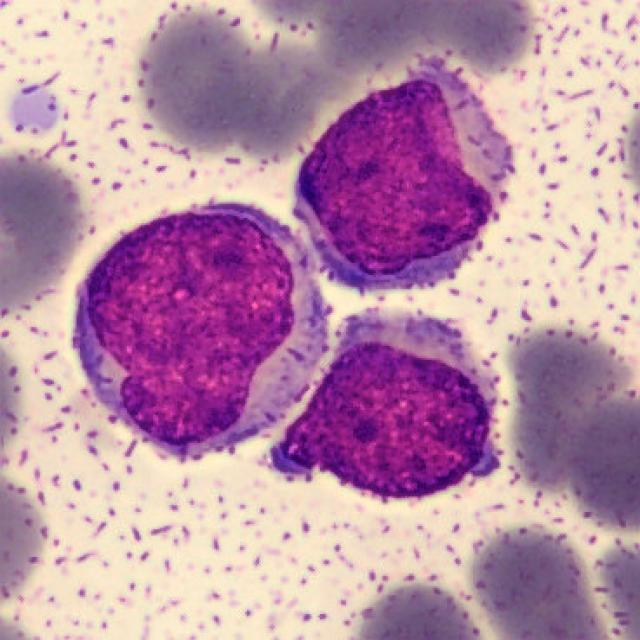Mieloblasto: (70, 204, 323, 462), (294, 55, 515, 287), (270, 311, 503, 503)
